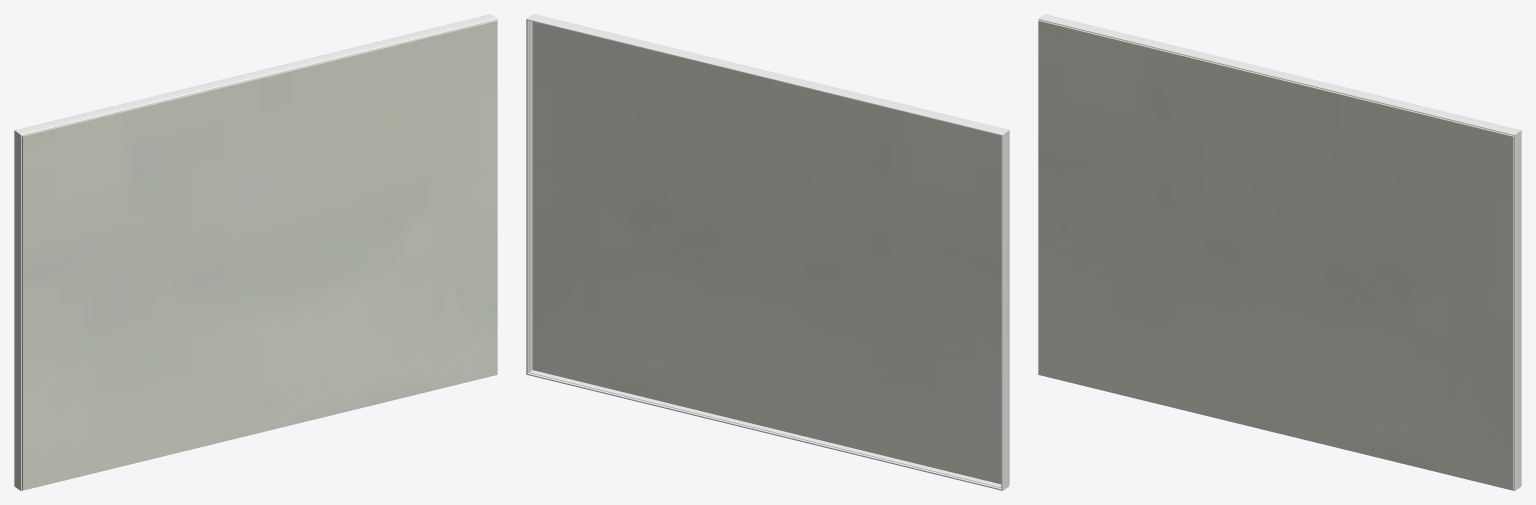
Rendered from HOOD PANEL700X 500.glb.
3 views of the same model, side by side, from view 1: azimuth 30°, elevation 25°; view 2: azimuth 150°, elevation 25°; view 3: azimuth 330°, elevation 25° (orthographic).
Bounding box in the file's own units: 0.7 × 0.5 × 0.02.
2 materials, 1 textured.
